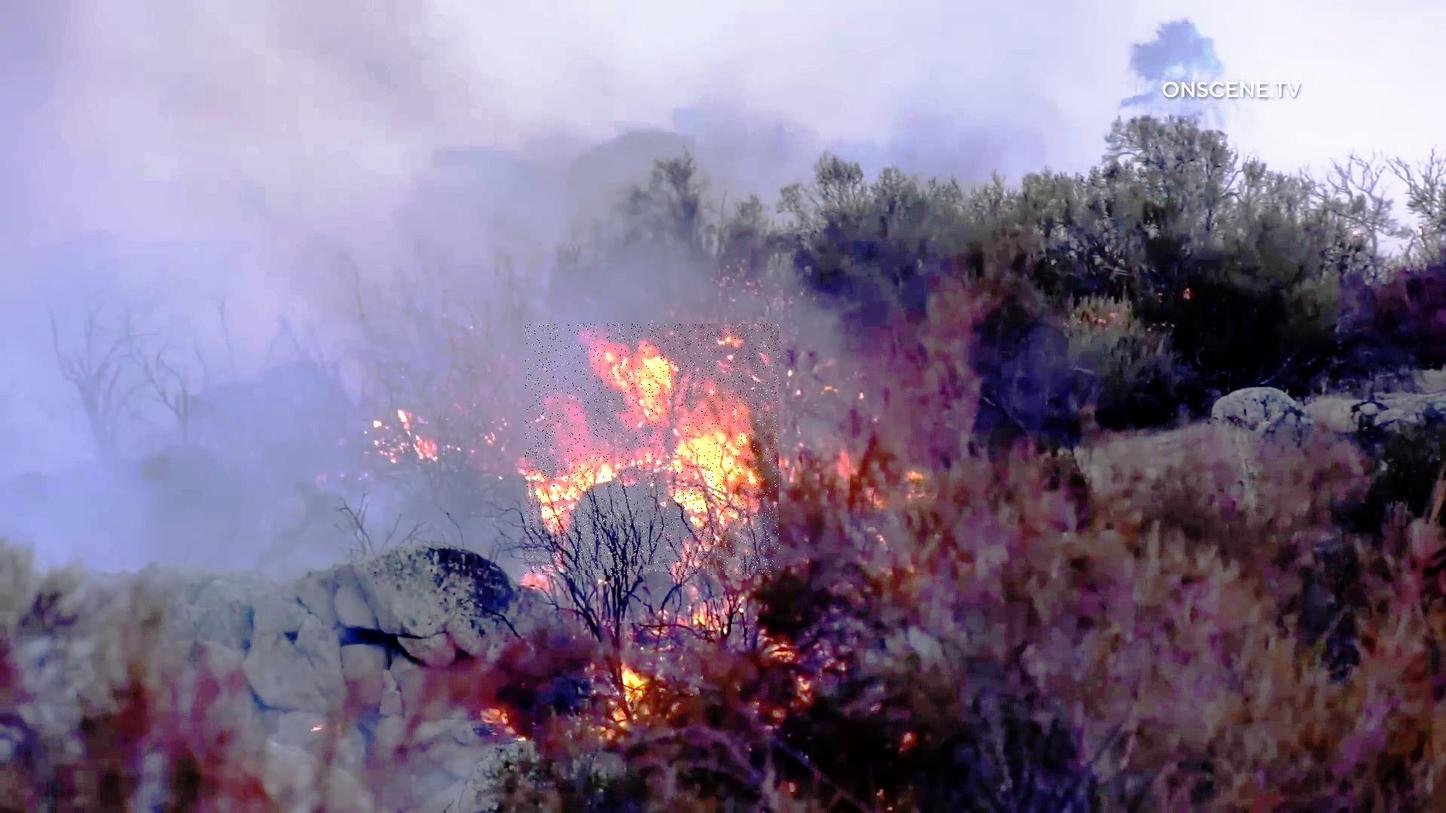fire: (526, 324, 781, 575)
